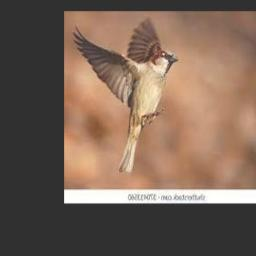Sparrow: (73, 17, 178, 173)
